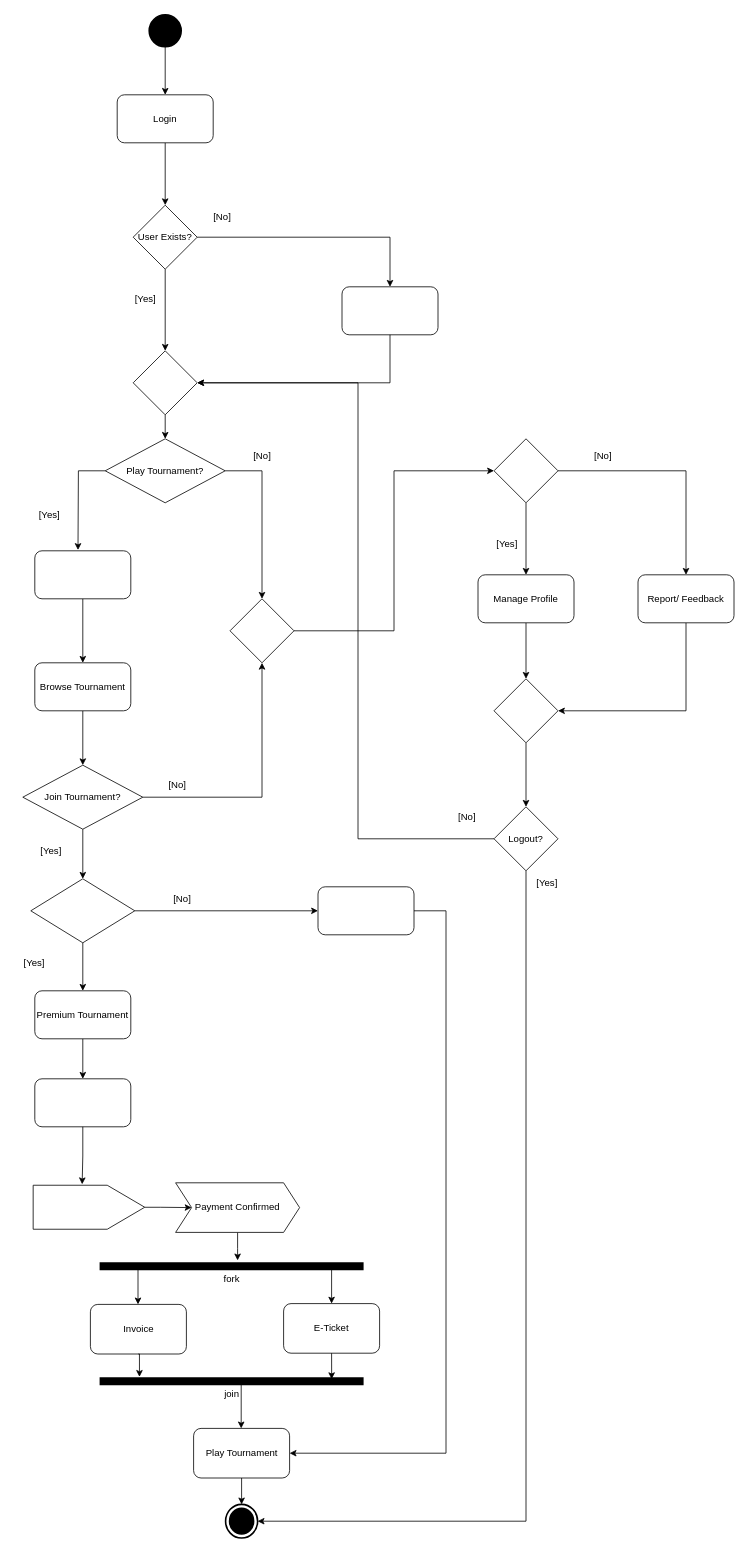
The diagram is 748 pixels wide and 1552 high, and some of its shapes have lost their labels. The shapes that lost their labels are listed below. From the top down, each one's centre as x and y in pixels, then its label:
(x=389, y=310): Registeration
(x=525, y=470): Go to Profile?
(x=82, y=574): Select Game
(x=82, y=910): Paid Tournament?
(x=365, y=910): Free Tournament
(x=82, y=1102): Purchase Ticket
(x=88, y=1206): Request Payment
